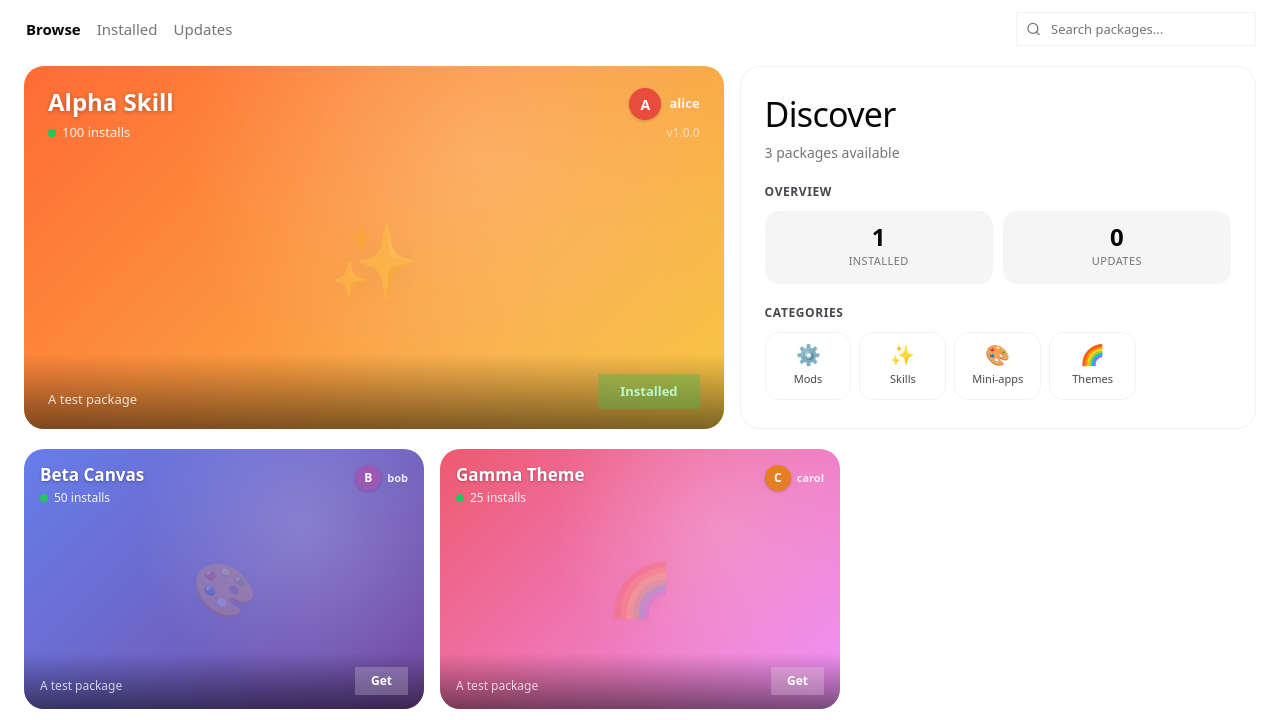
InstalledList › navigates to detail when installed item is clicked
Click the 2nd button with class "store-header-tab". click: (127, 29)
box: top-left (95, 14), bottom-right (160, 44)
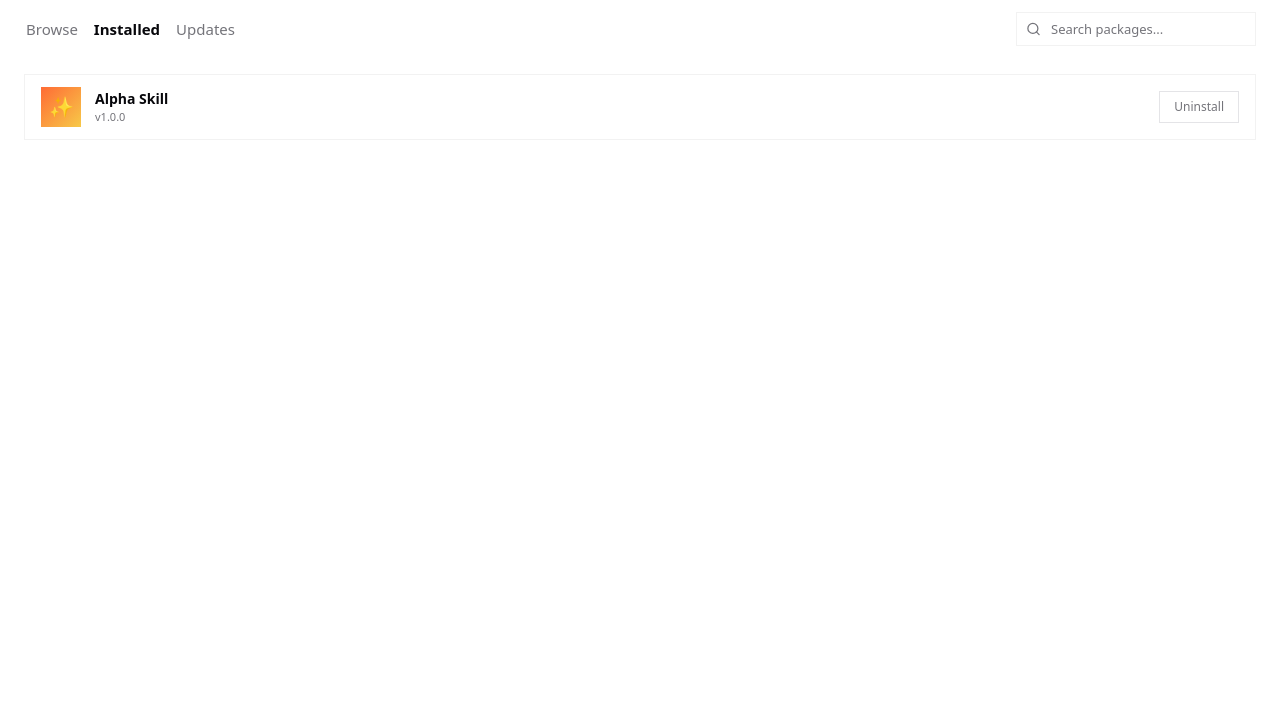
Click the element with class "store-installed-item". click: (640, 107)
box: top-left (24, 74), bottom-right (1256, 140)
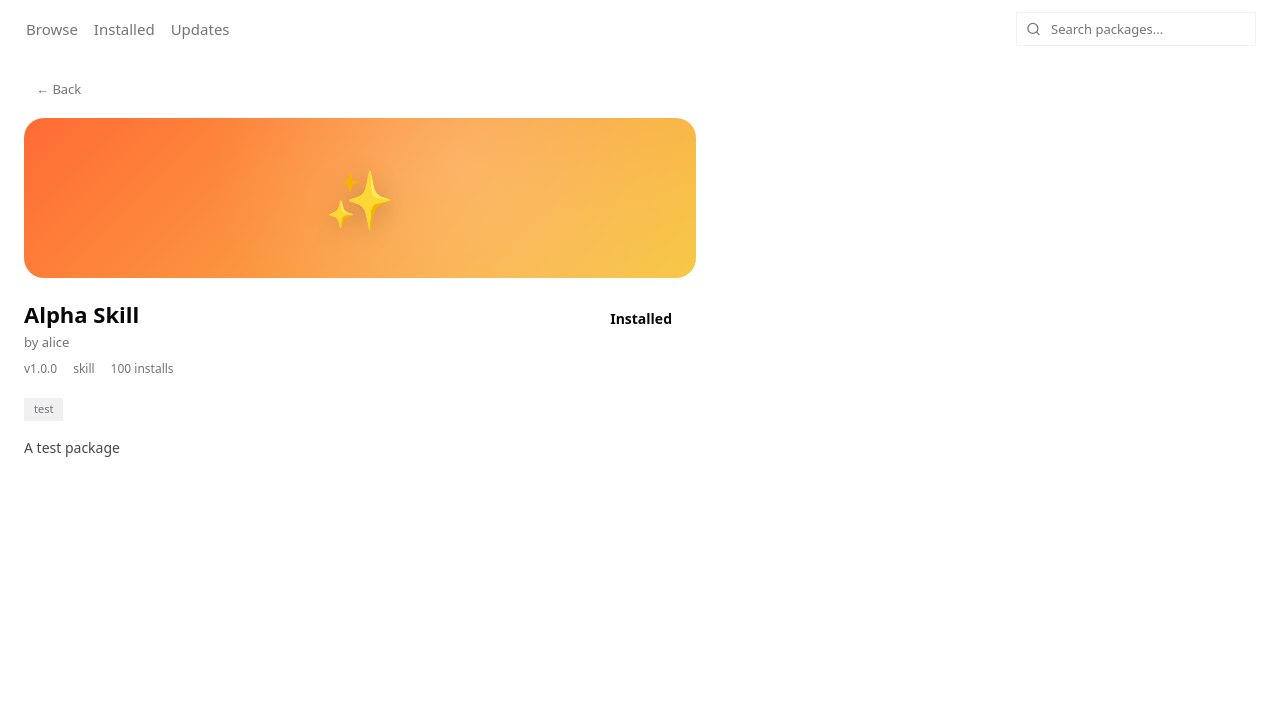
Result: the button with class "store-detail-back" is shown at top-left (24, 74), bottom-right (93, 106)
